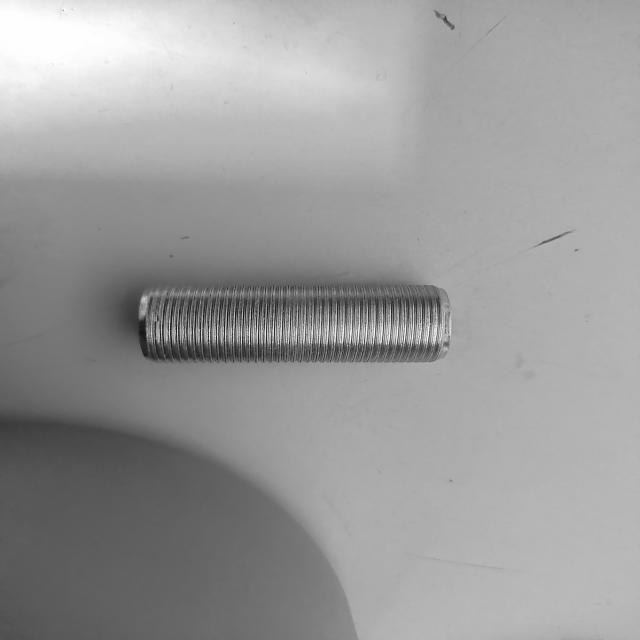Broken: (138, 284, 452, 366)
